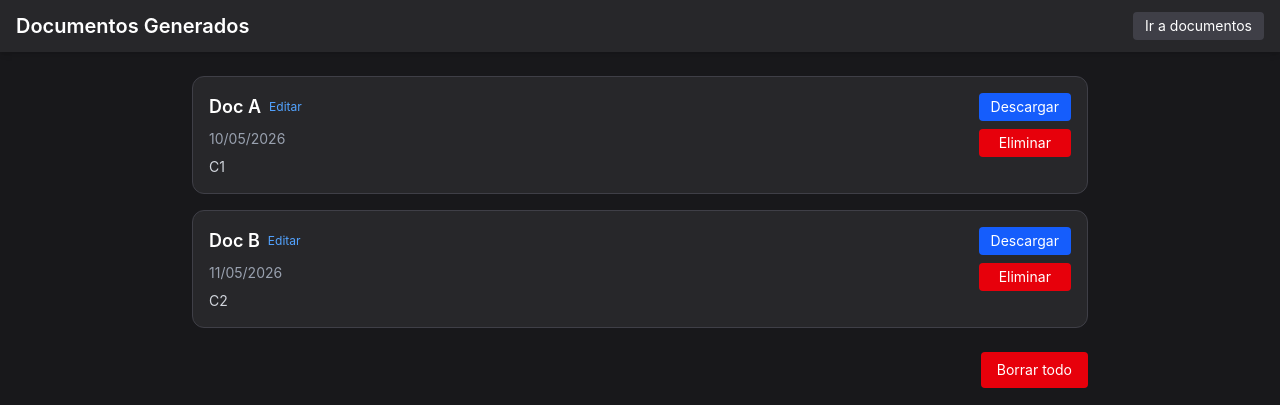
it: Documentos flow integration › debe borrar todos los documentos de la interfaz y del store
Expected: the text "Doc A" is shown, [209, 96, 261, 117]
Expected: the text "Doc B" is shown, [209, 230, 260, 251]
Click the button "Borrar todo" at (1034, 370), box [981, 352, 1088, 388]
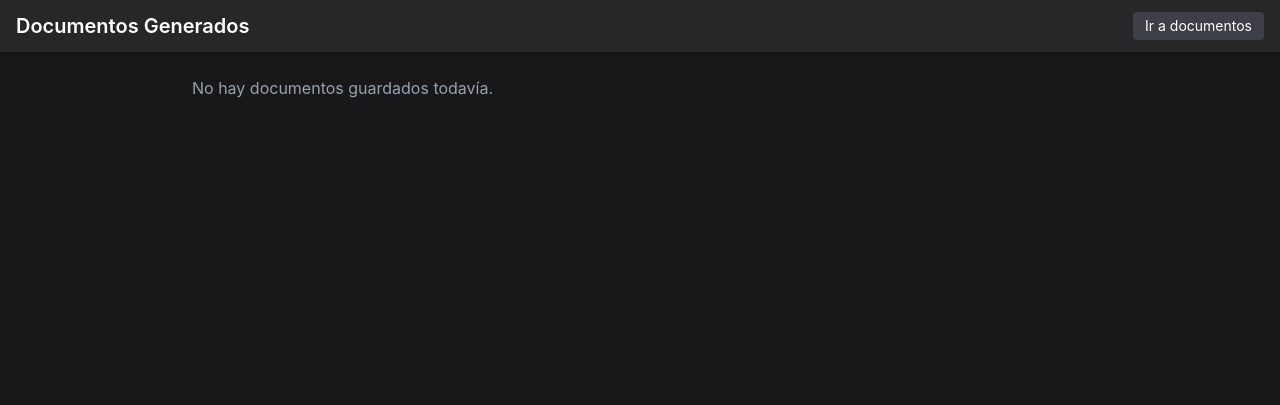
Expected: the text "Doc A" is gone
Expected: the text "Doc B" is gone
Expected: the text "No hay documentos guardados todavía." is shown, [192, 78, 493, 98]
